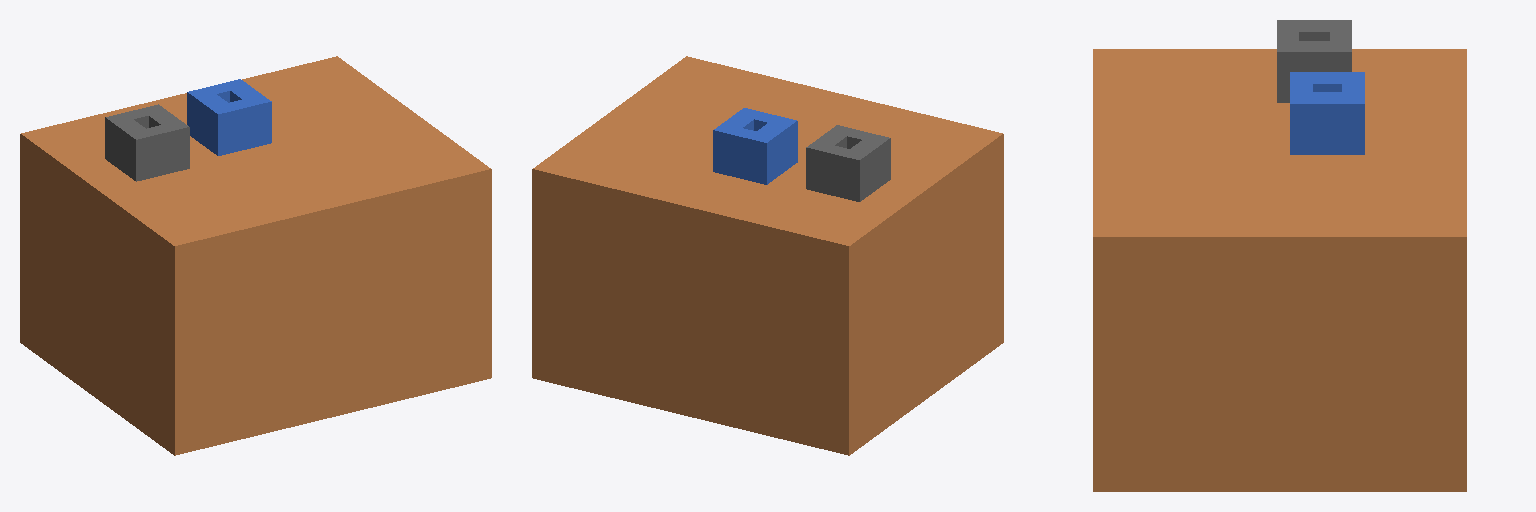
The robot description file, URDF, robot "peg_in_hole_fixtured_scene_0006_peg0016_tol02":
<?xml version="1.0"?>
<robot name="peg_in_hole_fixtured_scene_0006_peg0016_tol02">
  <material name="wood"><color rgba="0.82 0.56 0.35 1.0"/></material>
  <material name="start_fix"><color rgba="0.30 0.50 0.85 1.0"/></material>
  <material name="goal_fix"><color rgba="0.4706 0.4706 0.4706 1.0"/></material>
  <link name="box">
    <visual>
      <origin xyz="0.000000 0.000000 0.000000" rpy="0 0 0"/>
      <geometry><box size="0.475000 0.400000 0.300000"/></geometry>
      <material name="wood"/>
    </visual>
    <collision>
      <origin xyz="0.000000 0.000000 0.000000" rpy="0 0 0"/>
      <geometry><box size="0.475000 0.400000 0.300000"/></geometry>
    </collision>
    <visual>
      <origin xyz="-0.010502 0.050778 0.155000" rpy="0 0 0"/>
      <geometry><box size="0.080000 0.080000 0.010000"/></geometry>
      <material name="start_fix"/>
    </visual>
    <collision>
      <origin xyz="-0.010502 0.050778 0.155000" rpy="0 0 0"/>
      <geometry><box size="0.080000 0.080000 0.010000"/></geometry>
    </collision>
    <visual>
      <origin xyz="0.014748 0.050778 0.185000" rpy="0 0 0"/>
      <geometry><box size="0.029500 0.080000 0.050000"/></geometry>
      <material name="start_fix"/>
    </visual>
    <collision>
      <origin xyz="0.014748 0.050778 0.185000" rpy="0 0 0"/>
      <geometry><box size="0.029500 0.080000 0.050000"/></geometry>
    </collision>
    <visual>
      <origin xyz="-0.035752 0.050778 0.185000" rpy="0 0 0"/>
      <geometry><box size="0.029500 0.080000 0.050000"/></geometry>
      <material name="start_fix"/>
    </visual>
    <collision>
      <origin xyz="-0.035752 0.050778 0.185000" rpy="0 0 0"/>
      <geometry><box size="0.029500 0.080000 0.050000"/></geometry>
    </collision>
    <visual>
      <origin xyz="-0.010502 0.078528 0.185000" rpy="0 0 0"/>
      <geometry><box size="0.021000 0.024500 0.050000"/></geometry>
      <material name="start_fix"/>
    </visual>
    <collision>
      <origin xyz="-0.010502 0.078528 0.185000" rpy="0 0 0"/>
      <geometry><box size="0.021000 0.024500 0.050000"/></geometry>
    </collision>
    <visual>
      <origin xyz="-0.010502 0.023028 0.185000" rpy="0 0 0"/>
      <geometry><box size="0.021000 0.024500 0.050000"/></geometry>
      <material name="start_fix"/>
    </visual>
    <collision>
      <origin xyz="-0.010502 0.023028 0.185000" rpy="0 0 0"/>
      <geometry><box size="0.021000 0.024500 0.050000"/></geometry>
    </collision>
    <visual>
      <origin xyz="-0.141655 0.036508 0.155000" rpy="0 0 0"/>
      <geometry><box size="0.080000 0.080000 0.010000"/></geometry>
      <material name="goal_fix"/>
    </visual>
    <collision>
      <origin xyz="-0.141655 0.036508 0.155000" rpy="0 0 0"/>
      <geometry><box size="0.080000 0.080000 0.010000"/></geometry>
    </collision>
    <visual>
      <origin xyz="-0.115931 0.036508 0.185000" rpy="0 0 0"/>
      <geometry><box size="0.028552 0.080000 0.050000"/></geometry>
      <material name="goal_fix"/>
    </visual>
    <collision>
      <origin xyz="-0.115931 0.036508 0.185000" rpy="0 0 0"/>
      <geometry><box size="0.028552 0.080000 0.050000"/></geometry>
    </collision>
    <visual>
      <origin xyz="-0.167379 0.036508 0.185000" rpy="0 0 0"/>
      <geometry><box size="0.028552 0.080000 0.050000"/></geometry>
      <material name="goal_fix"/>
    </visual>
    <collision>
      <origin xyz="-0.167379 0.036508 0.185000" rpy="0 0 0"/>
      <geometry><box size="0.028552 0.080000 0.050000"/></geometry>
    </collision>
    <visual>
      <origin xyz="-0.141655 0.064732 0.185000" rpy="0 0 0"/>
      <geometry><box size="0.022895 0.023552 0.050000"/></geometry>
      <material name="goal_fix"/>
    </visual>
    <collision>
      <origin xyz="-0.141655 0.064732 0.185000" rpy="0 0 0"/>
      <geometry><box size="0.022895 0.023552 0.050000"/></geometry>
    </collision>
    <visual>
      <origin xyz="-0.141655 0.008284 0.185000" rpy="0 0 0"/>
      <geometry><box size="0.022895 0.023552 0.050000"/></geometry>
      <material name="goal_fix"/>
    </visual>
    <collision>
      <origin xyz="-0.141655 0.008284 0.185000" rpy="0 0 0"/>
      <geometry><box size="0.022895 0.023552 0.050000"/></geometry>
    </collision>
    <inertial>
      <mass value="500"/>
      <friction value="1.0"/>
      <inertia ixx="1000.0" ixy="0.0" ixz="0.0" iyy="1000.0" iyz="0.0" izz="1000.0"/>
    </inertial>
  </link>
</robot>

--- Render facts (derived) ---
Views: 3 orthographic renders of the robot side by side, from view 1: azimuth 30°, elevation 25°; view 2: azimuth 150°, elevation 25°; view 3: azimuth 270°, elevation 25°.
Robot: peg_in_hole_fixtured_scene_0006_peg0016_tol02 — 1 links, 0 joints (none); root link box; default pose: every joint at zero.
Links seen in each view (by area): view 1: box; view 2: box; view 3: box.
Boxes of the visible links, <box> form: box: <box>20,56,491,455</box>; box: <box>532,56,1003,455</box>; box: <box>1093,20,1466,491</box>.
Bounding box of the posed robot: 0.475 × 0.4 × 0.36 m (x, y, z).
Geometry: primitives only (box / cylinder / sphere), no mesh files.
